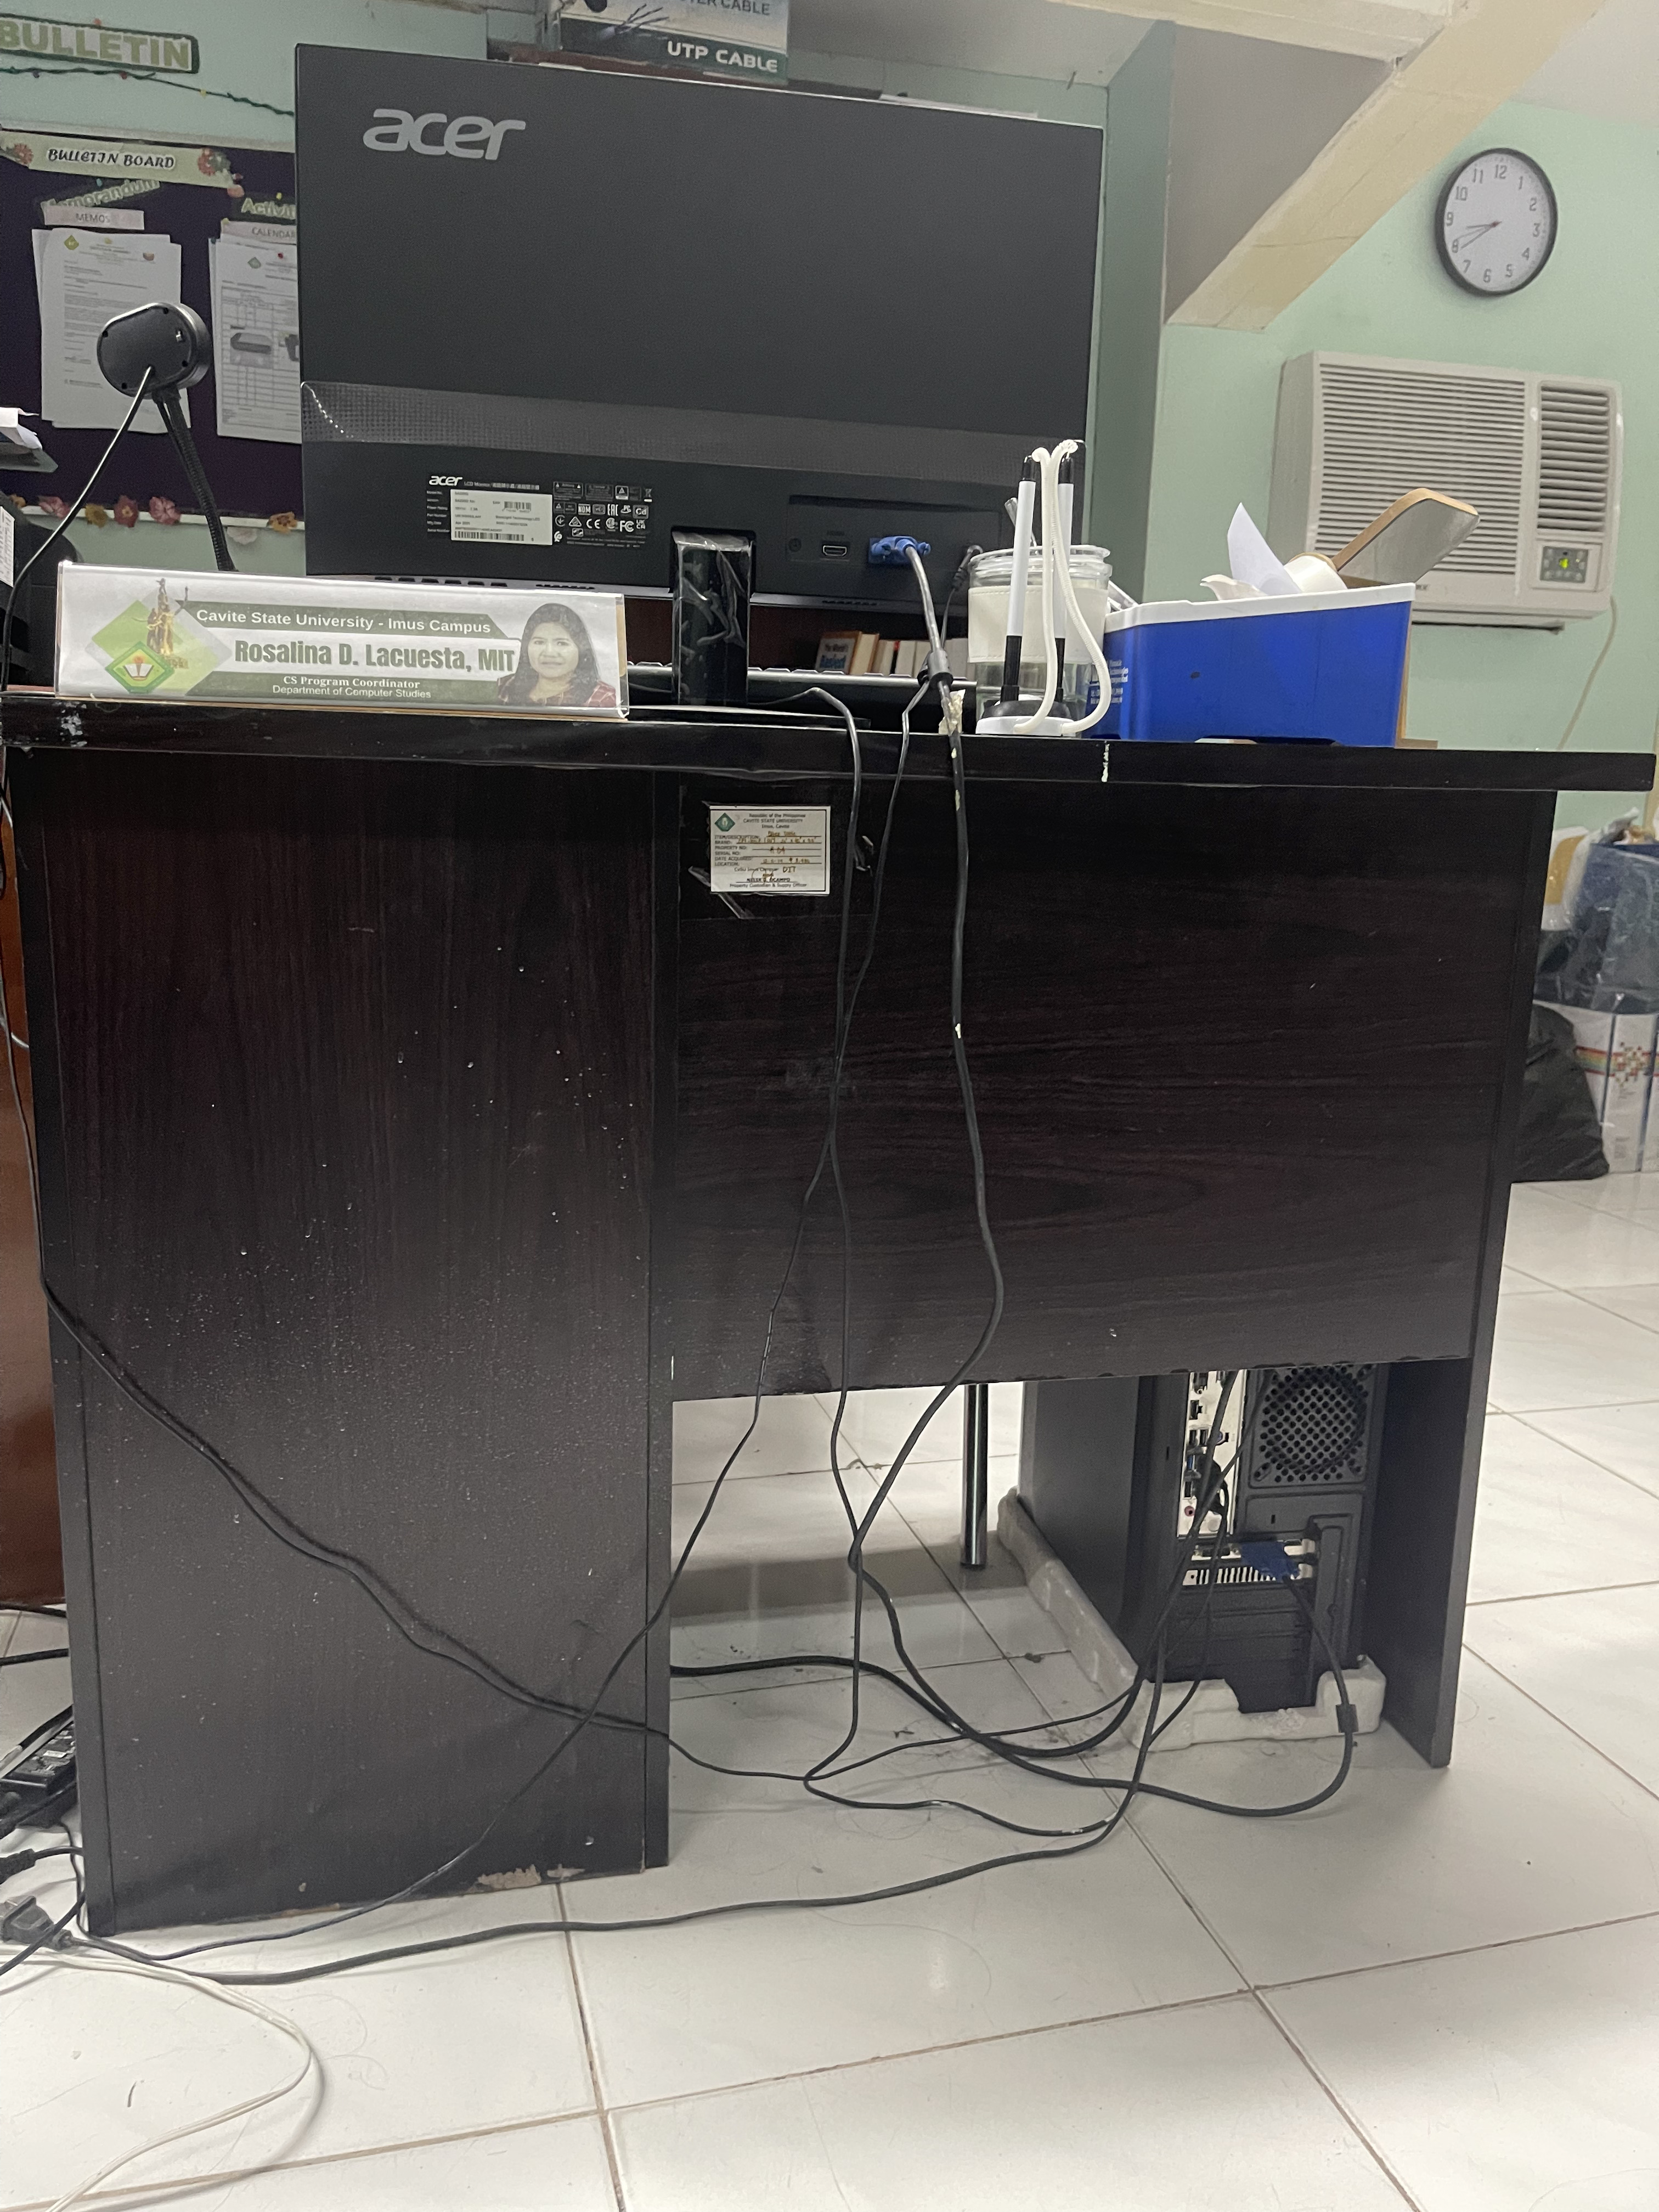table1: (0, 714, 1649, 1951)
